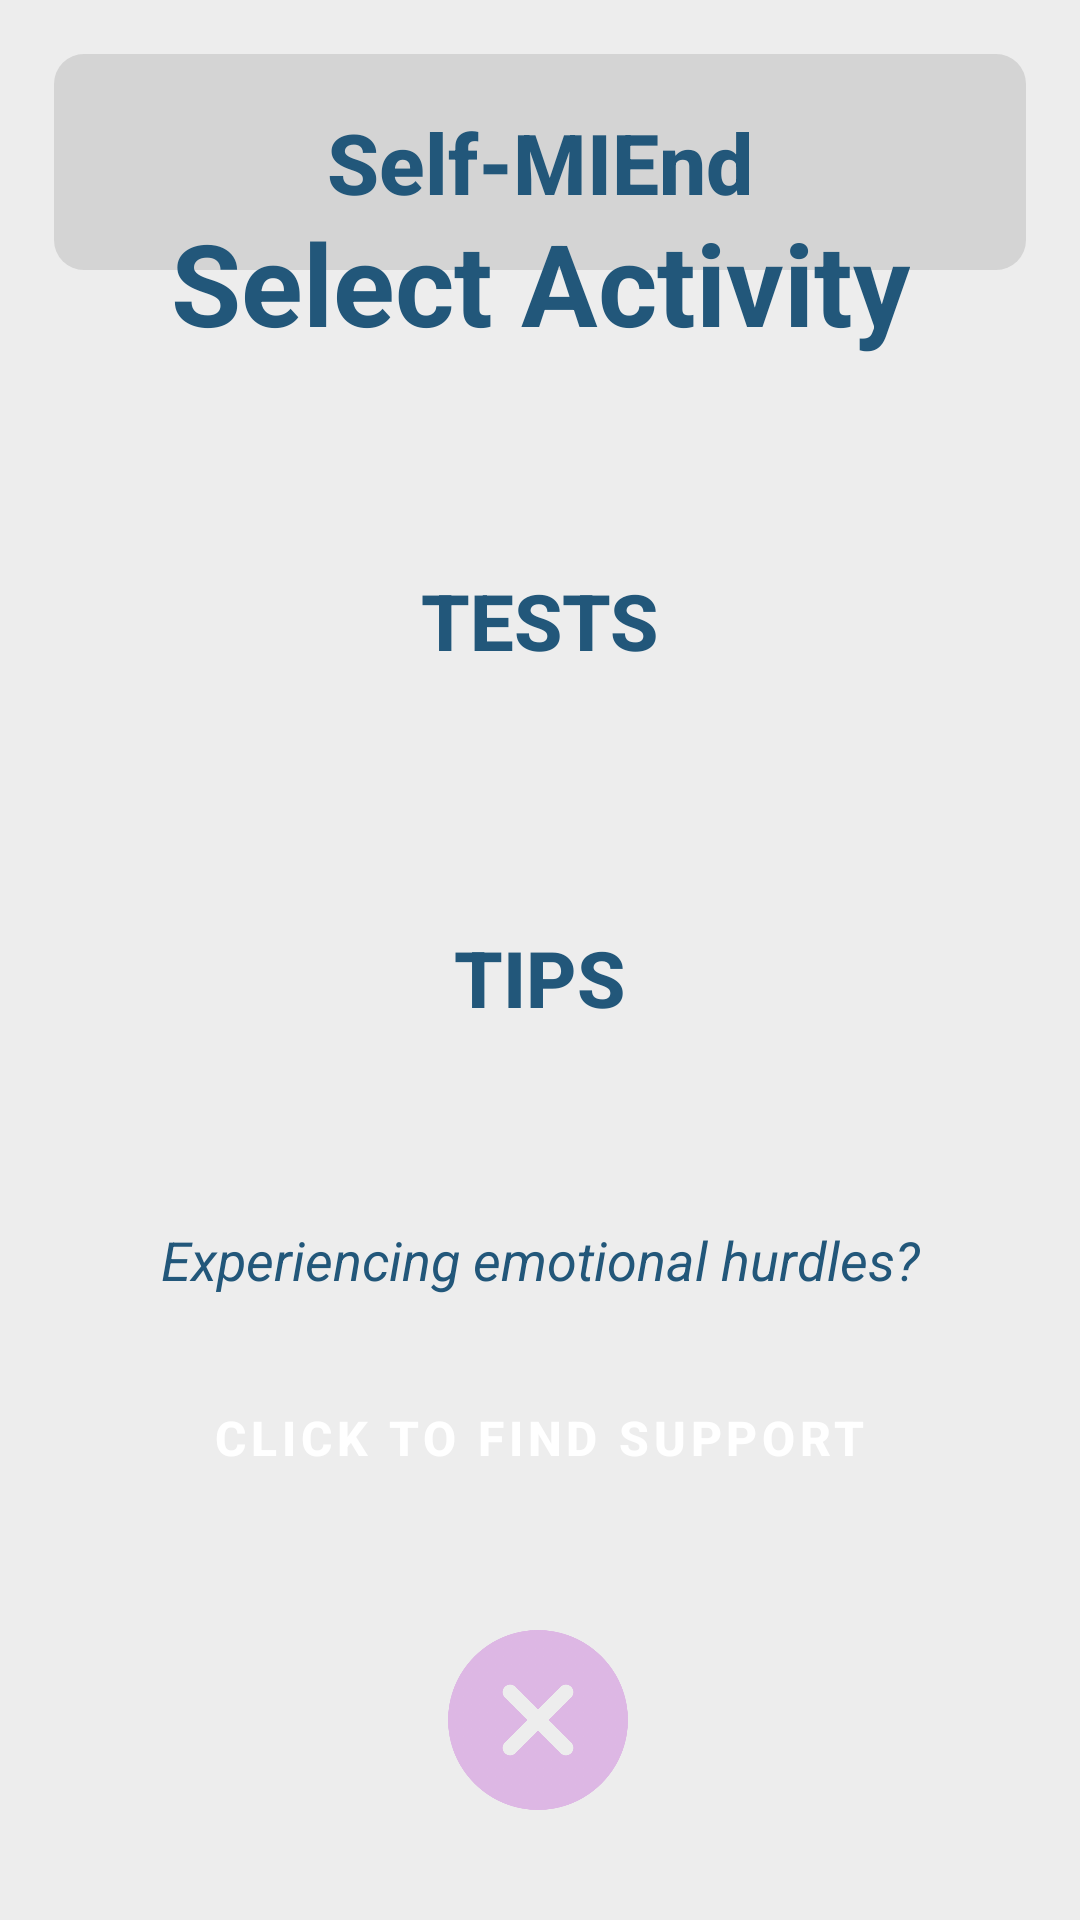

Where to tap for icons on this 1080px×1920px app screen, as point (x, y):
Exit: point (538, 1720)
